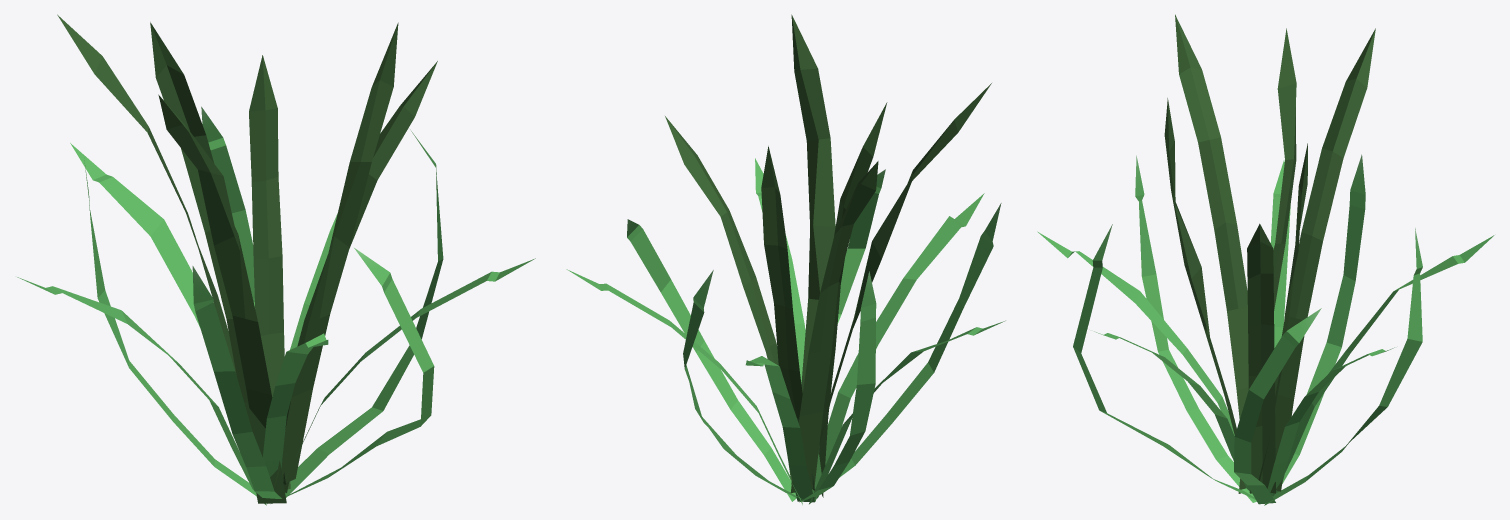
The model's file is RegGrass.glb.
3 renders of one model, left to right at view 1: azimuth 30°, elevation 25°; view 2: azimuth 150°, elevation 25°; view 3: azimuth 270°, elevation 25°, orthographic. The views are drawn at different scales.
Visible parts, largest first — view 1: Plane.003, Plane.004, Plane, Plane.007; view 2: Plane.004, Plane.003, Plane, Plane.007; view 3: Plane, Plane.004, Plane.007, Plane.003.
Part boxes in pixels (x1=…): Plane.003: x1=150, y1=22, x2=398, y2=503; Plane.004: x1=84, y1=106, x2=443, y2=503; Plane: x1=57, y1=14, x2=437, y2=492; Plane.007: x1=17, y1=143, x2=535, y2=505; Plane.004: x1=627, y1=169, x2=1001, y2=502; Plane.003: x1=761, y1=14, x2=887, y2=497; Plane: x1=665, y1=83, x2=991, y2=492; Plane.007: x1=566, y1=158, x2=1005, y2=504; Plane: x1=1175, y1=14, x2=1375, y2=493; Plane.004: x1=1073, y1=154, x2=1422, y2=505; Plane.007: x1=1037, y1=160, x2=1494, y2=496; Plane.003: x1=1164, y1=28, x2=1307, y2=493.
Bounding box in the file's own units: 3.47 × 3.75 × 3.61.
6 materials, 6 textured.
